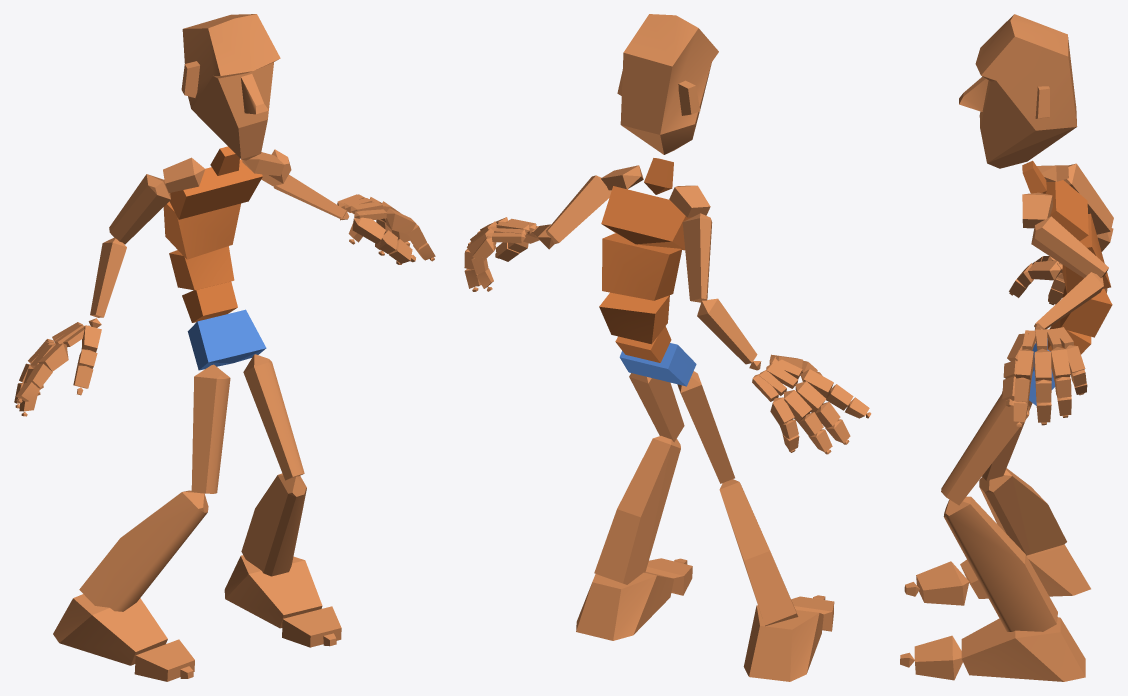
Rendered from prueba128.obj.
3 renders of one model, left to right at view 1: azimuth 30°, elevation 25°; view 2: azimuth 150°, elevation 25°; view 3: azimuth 270°, elevation 25°, orthographic. The views are drawn at different scales.
Visible parts, largest first — view 1: BOPED_Head, BOPED_R_leg, BOPED_R_foot, BOPED_L_leg, BOPED_R_foot01, BOPED_R_legup, BOPED_L_legup, Bone01, Bone04, Bone05, BOPED_R_arm_upper, Bone03 (+7 smaller); view 2: BOPED_Head, BOPED_L_leg, BOPED_R_foot01, BOPED_R_leg, BOPED_R_foot, Bone04, Bone05, Bone03, BOPED_R_legup, BOPED_R_arm_upper, BOPED_L_legup, BOPED_L_arm_upper (+8 smaller); view 3: BOPED_Head, BOPED_L_leg, BOPED_R_foot01, BOPED_R_leg, BOPED_L_legup, BOPED_R_foot, BOPED_L_arm_upper, BOPED_R_foot_toe01, BOPED_R_foot_toe04, Bone05, Bone03, BOPED_L_arm_fore (+15 smaller).
Part boxes in pixels (x1,y1,x2,y2): BOPED_Head: [181, 14, 280, 160]; BOPED_R_leg: [79, 490, 208, 611]; BOPED_R_foot: [53, 594, 167, 665]; BOPED_L_leg: [241, 473, 306, 576]; BOPED_R_foot01: [224, 555, 322, 628]; BOPED_R_legup: [191, 364, 230, 493]; BOPED_L_legup: [243, 354, 304, 480]; Bone01: [187, 309, 266, 370]; Bone04: [163, 201, 240, 259]; Bone05: [169, 159, 262, 219]; BOPED_R_arm_upper: [109, 174, 170, 244]; Bone03: [169, 246, 234, 290]; BOPED_Head: [617, 14, 718, 154]; BOPED_L_leg: [594, 436, 680, 584]; BOPED_R_foot01: [576, 572, 673, 640]; BOPED_R_leg: [719, 479, 798, 626]; BOPED_R_foot: [743, 605, 823, 681]; Bone04: [602, 233, 682, 300]; Bone05: [601, 186, 691, 250]; Bone03: [599, 292, 669, 344]; BOPED_R_legup: [677, 371, 734, 483]; BOPED_R_arm_upper: [682, 213, 712, 302]; BOPED_L_legup: [629, 373, 684, 442]; BOPED_L_arm_upper: [546, 175, 611, 243]; BOPED_Head: [959, 14, 1077, 168]; BOPED_L_leg: [943, 496, 1057, 631]; BOPED_R_foot01: [961, 617, 1085, 681]; BOPED_R_leg: [979, 468, 1066, 555]; BOPED_L_legup: [941, 393, 1029, 505]; BOPED_R_foot: [960, 544, 1090, 598]; BOPED_L_arm_upper: [1031, 216, 1108, 277]; BOPED_R_foot_toe01: [916, 561, 969, 605]; BOPED_R_foot_toe04: [914, 635, 962, 680]; Bone05: [1045, 180, 1088, 241]; Bone03: [1060, 286, 1112, 337]; BOPED_L_arm_fore: [1034, 272, 1103, 329].
Size of the model in its own units: 130 by 183 by 56.88.
